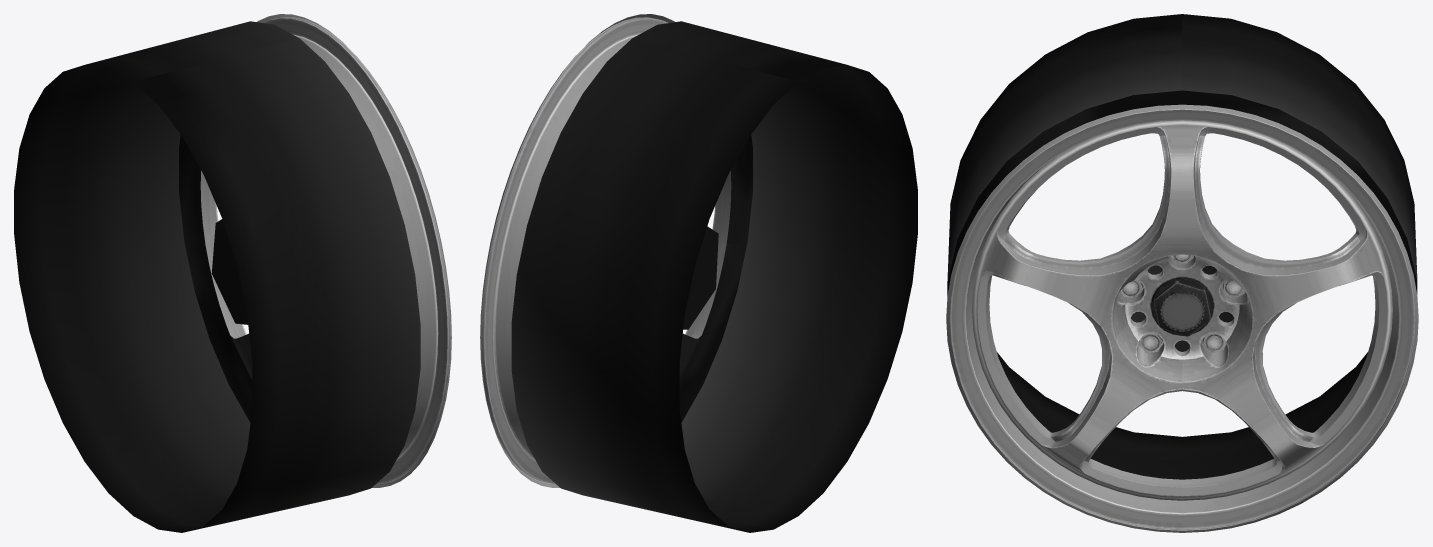
File: wheel1.fbx
The picture shows the model from 3 angles, left to right: view 1: azimuth 30°, elevation 25°; view 2: azimuth 150°, elevation 25°; view 3: azimuth 270°, elevation 25°; orthographic projection. The views are drawn at different scales.
Visible parts, largest first — view 1: 5zi_fno1rc_wheel_wheel_inner_rim_, wheel_rim, 5zi_fno1rc_wheel_wheel_rim_; view 2: 5zi_fno1rc_wheel_wheel_inner_rim_, wheel_rim, 5zi_fno1rc_wheel_wheel_rim_; view 3: 5zi_fno1rc_wheel_wheel_rim_, 5zi_fno1rc_wheel_wheel_inner_rim_, wheel_rim.
Boxes of the visible parts, x1,y1,x2,y2 form: 5zi_fno1rc_wheel_wheel_inner_rim_: (14,21,420,532); wheel_rim: (209,14,451,487); 5zi_fno1rc_wheel_wheel_rim_: (200,127,451,338); 5zi_fno1rc_wheel_wheel_inner_rim_: (511,21,917,532); wheel_rim: (480,14,721,487); 5zi_fno1rc_wheel_wheel_rim_: (691,170,731,338); 5zi_fno1rc_wheel_wheel_rim_: (947,125,1387,496); 5zi_fno1rc_wheel_wheel_inner_rim_: (947,14,1417,479); wheel_rim: (946,104,1418,532).
Bounding box in the file's own units: 0.2319 × 0.481 × 0.4809.
Materials: 1 (1 with a texture image).
